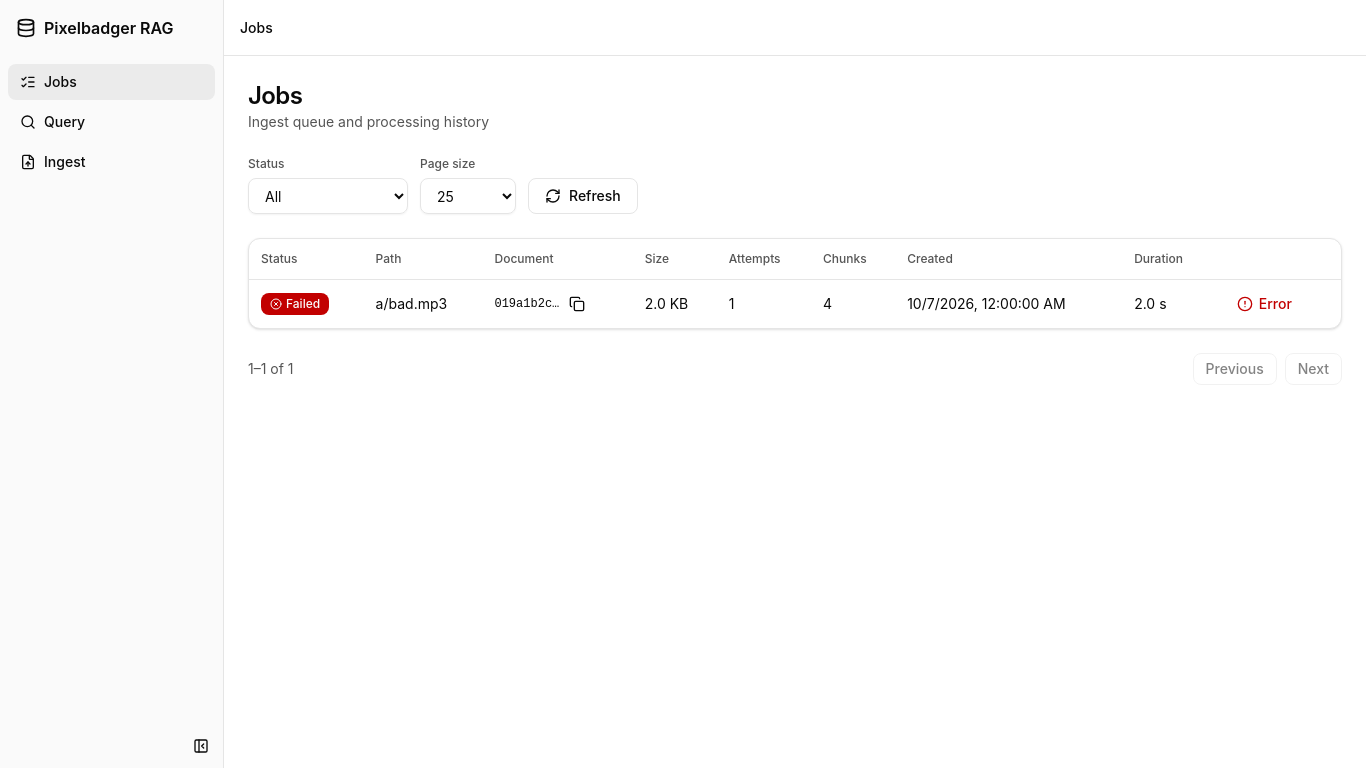
Scenario: jobs page › makes the full error of a failed job available in a dialog
Click the button with aria-label "show error for a/bad.mp3" at (1264, 304), box [1225,288,1304,320]
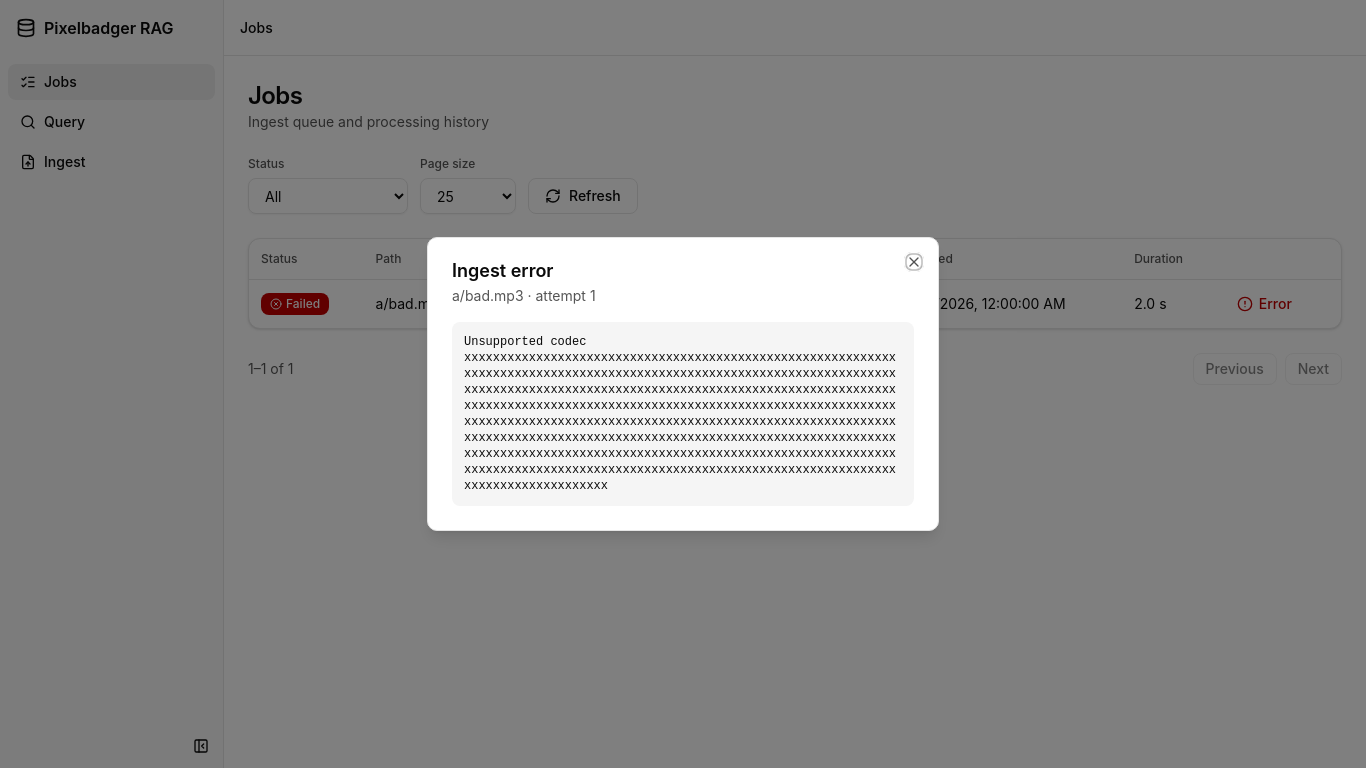
Check: the dialog shows "Unsupported codec", box [464,335,896,493]
